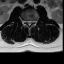CCS_normal: (28, 18, 30, 27)
LFS_stenosis: (33, 17, 35, 24)
LLS_normal: (30, 17, 33, 25)
RFS_stenosis: (24, 18, 26, 24)
RLS_normal: (26, 18, 28, 25)
